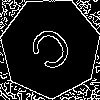C: (25, 23, 82, 82)
